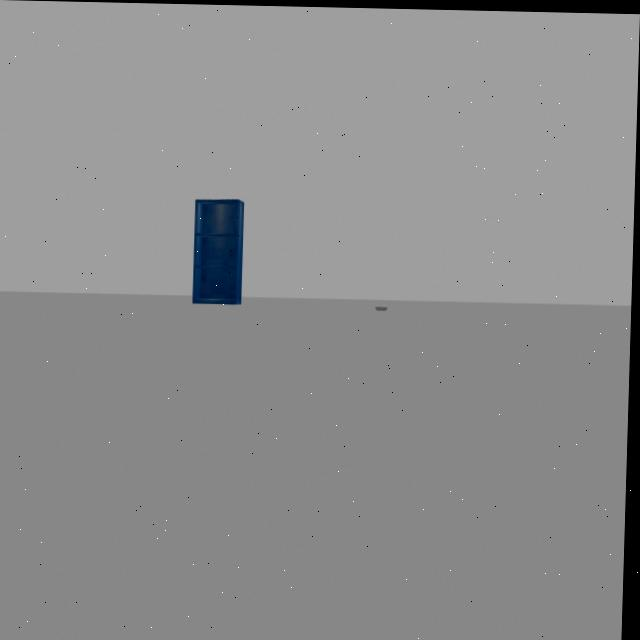bowl: (375, 298, 394, 316)
shelf: (186, 190, 250, 313)
